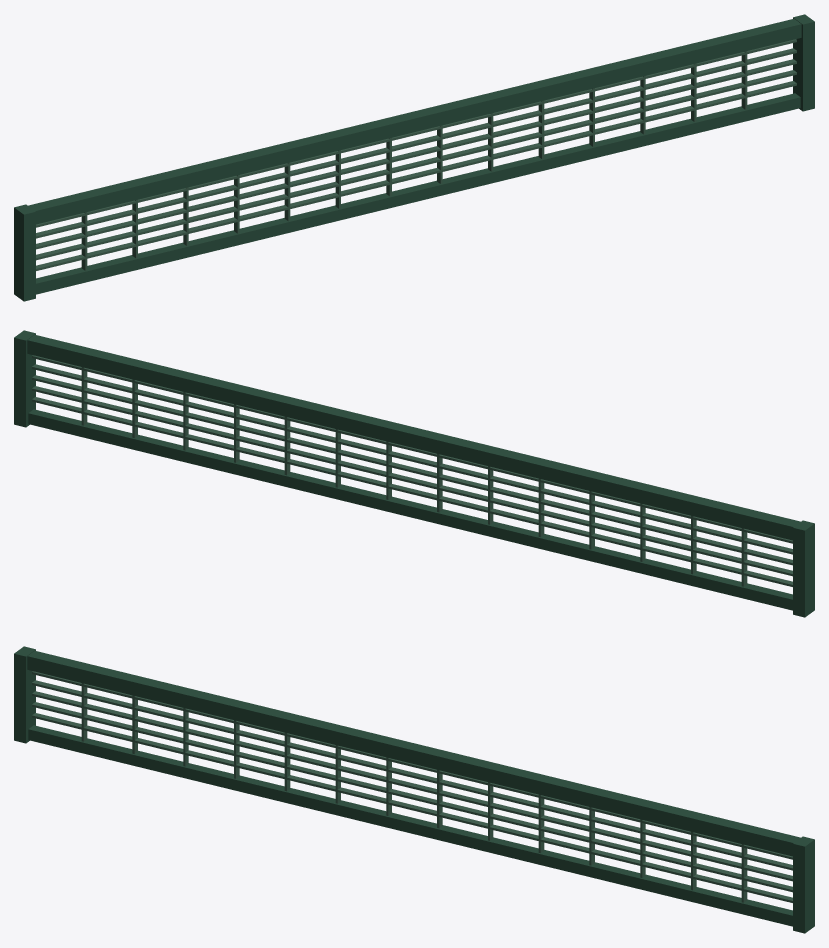
The model's file is net.glb.
3 views of the same model, one above another, from view 1: azimuth 30°, elevation 25°; view 2: azimuth 150°, elevation 25°; view 3: azimuth 330°, elevation 25° (orthographic).
Parts seen in each view (by area): view 1: Net Top, Net Bottom, Net Horizontal.003, Net Horizontal, Net Horizontal.001, Net Horizontal.002, Net Horizontal.004, Net Post, Net Post.001; view 2: Net Top, Net Bottom, Net Horizontal, Net Horizontal.003, Net Horizontal.002, Net Horizontal.001, Net Horizontal.004, Net Post, Net Post.001; view 3: Net Top, Net Bottom, Net Horizontal, Net Horizontal.003, Net Horizontal.002, Net Horizontal.001, Net Horizontal.004, Net Post.001, Net Post.
Part boxes in pixels (<box>): Net Top: <box>28,19,801,224</box>; Net Bottom: <box>36,93,800,294</box>; Net Horizontal.003: <box>36,48,796,238</box>; Net Horizontal: <box>36,81,796,270</box>; Net Horizontal.001: <box>36,70,796,260</box>; Net Horizontal.002: <box>36,59,796,249</box>; Net Horizontal.004: <box>36,39,796,227</box>; Net Post: <box>14,204,35,301</box>; Net Post.001: <box>793,14,814,111</box>; Net Top: <box>27,335,800,540</box>; Net Bottom: <box>28,409,792,610</box>; Net Horizontal: <box>32,397,792,586</box>; Net Horizontal.003: <box>32,364,792,554</box>; Net Horizontal.002: <box>32,375,792,565</box>; Net Horizontal.001: <box>32,386,792,576</box>; Net Horizontal.004: <box>32,355,792,543</box>; Net Post: <box>793,520,814,617</box>; Net Post.001: <box>14,330,35,427</box>; Net Top: <box>27,651,800,856</box>; Net Bottom: <box>28,725,792,926</box>; Net Horizontal: <box>32,713,792,902</box>; Net Horizontal.003: <box>32,680,792,870</box>; Net Horizontal.002: <box>32,691,792,881</box>; Net Horizontal.001: <box>32,702,792,892</box>; Net Horizontal.004: <box>32,671,792,859</box>; Net Post.001: <box>793,836,814,933</box>; Net Post: <box>14,646,35,743</box>.
Bounding box in the file's own units: 4.57 × 0.48 × 0.1.
